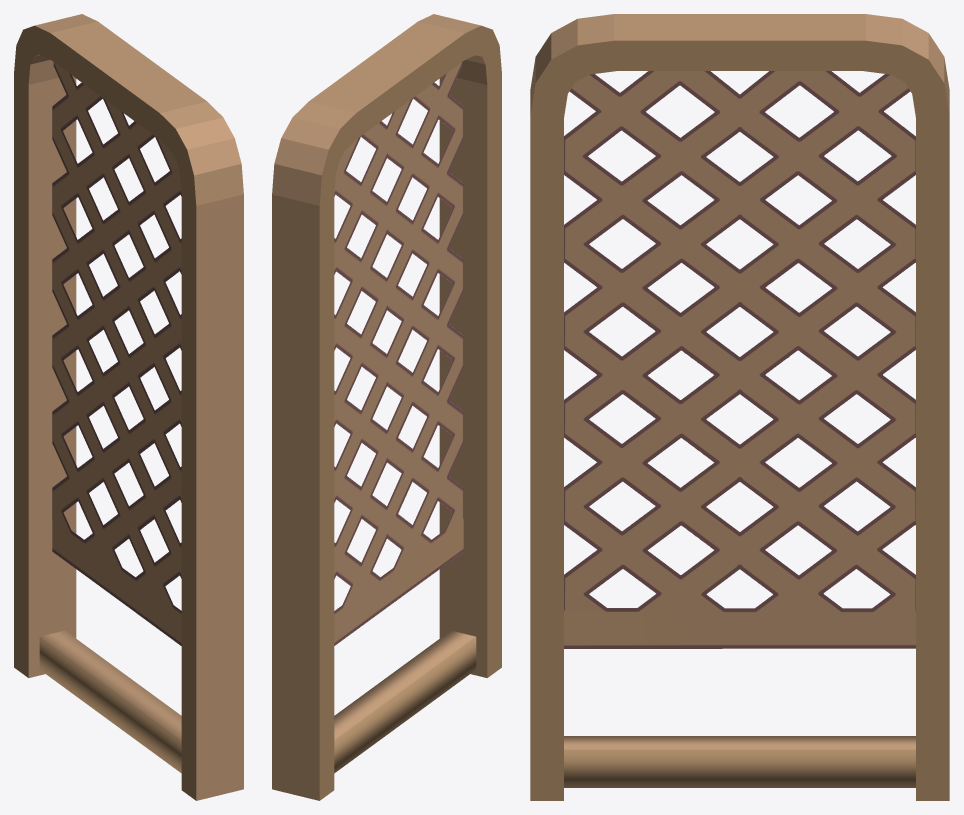
Rendered from Fence_RF_20008_01_SM.fbx.
The picture shows the model from 3 angles, left to right: view 1: azimuth 30°, elevation 25°; view 2: azimuth 150°, elevation 25°; view 3: azimuth 270°, elevation 25°; orthographic projection. The views are drawn at different scales.
Visible parts, largest first — view 1: Fence_RF_20008_01, Fence_RF_20008_01_P; view 2: Fence_RF_20008_01, Fence_RF_20008_01_P; view 3: Fence_RF_20008_01_P, Fence_RF_20008_01.
Part boxes in pixels (left/top/right/bottom): Fence_RF_20008_01: left=14, top=14, right=243, bottom=800; Fence_RF_20008_01_P: left=52, top=62, right=181, bottom=645; Fence_RF_20008_01: left=272, top=14, right=501, bottom=800; Fence_RF_20008_01_P: left=334, top=62, right=463, bottom=645; Fence_RF_20008_01_P: left=564, top=71, right=915, bottom=648; Fence_RF_20008_01: left=530, top=14, right=949, bottom=800.
Size of the model in its own units: 15.08 by 200 by 99.97.
Materials: 1 (1 with a texture image).
